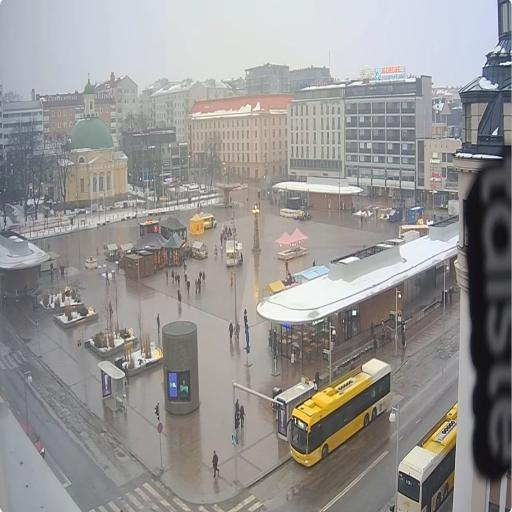Bus: (290, 358, 391, 467), (396, 400, 457, 511), (437, 456, 437, 457)
